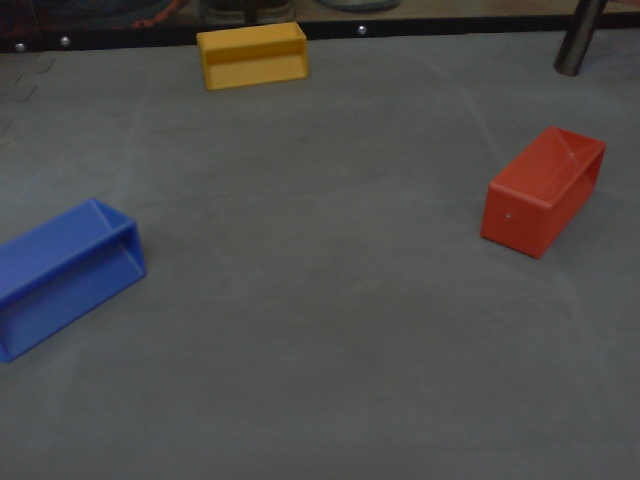BlueSample: (1, 195, 146, 366)
RedSample: (474, 128, 611, 259)
YellowSample: (195, 20, 309, 94)
